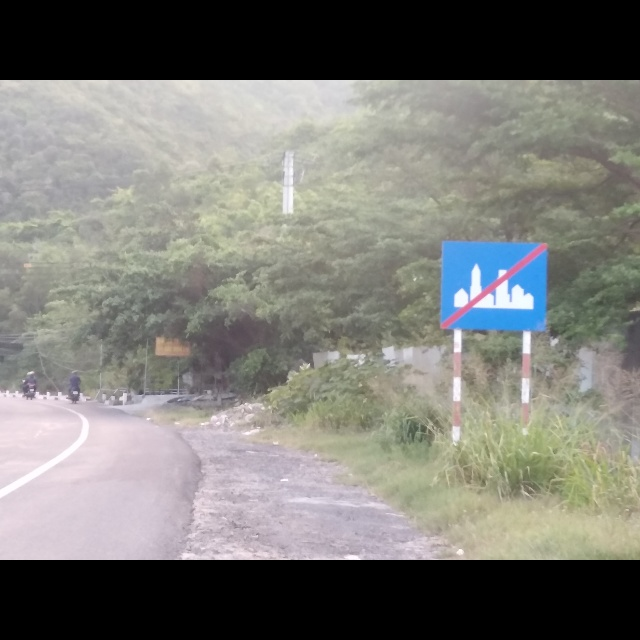Hết khu đông dân cư: (439, 239, 549, 334)
